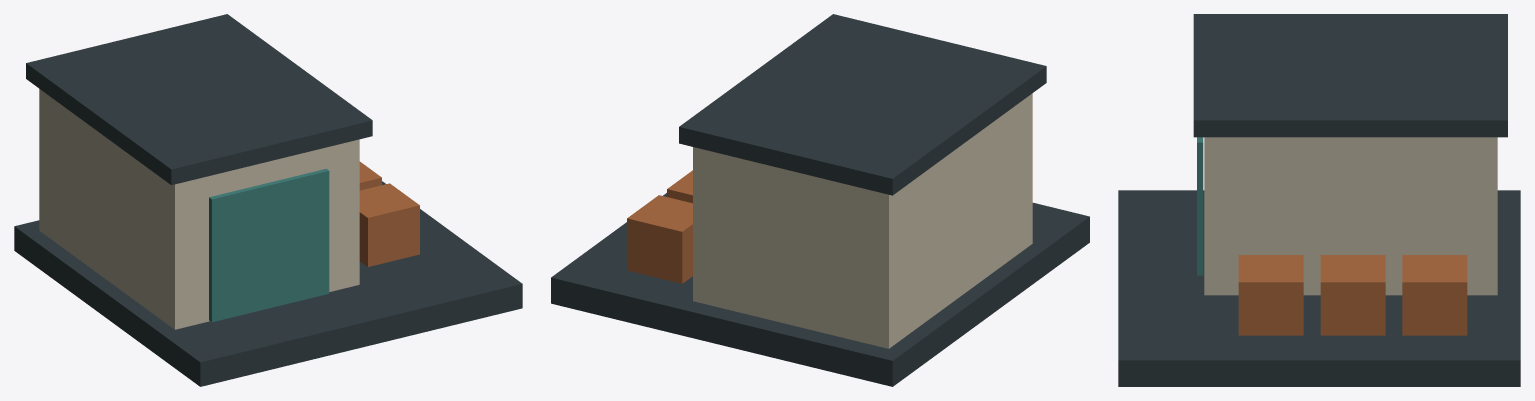
File: storage-lod1.ebea55d73aa6.glb
3 views of the same model, side by side, from view 1: azimuth 30°, elevation 25°; view 2: azimuth 150°, elevation 25°; view 3: azimuth 270°, elevation 25° (orthographic). The views are drawn at different scales.
Visible parts, largest first — view 1: body; view 2: body; view 3: body.
Part boxes in pixels (x1,y1,x2,y2): body: (14,14,522,386); body: (551,14,1089,386); body: (1118,14,1520,386).
Bounding box in the file's own units: 3.84 × 2.17 × 3.84.
